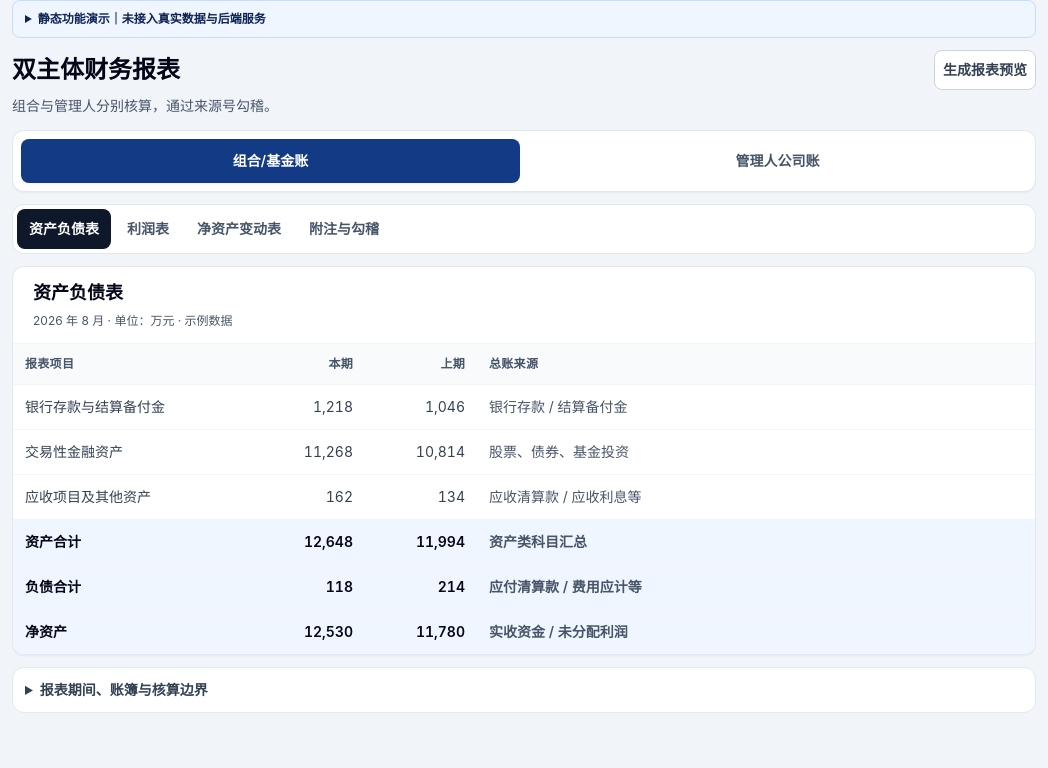
Test: FinancialStatementsWorkspace › 分别展示组合基金报表和管理人公司报表
Expected: the button "资产负债表" is shown, [17,209,111,249]
Expected: the button "利润表" is shown, [115,209,181,249]
Click the button "附注与勾稽".
click(344, 229)  # box [297,209,391,249]
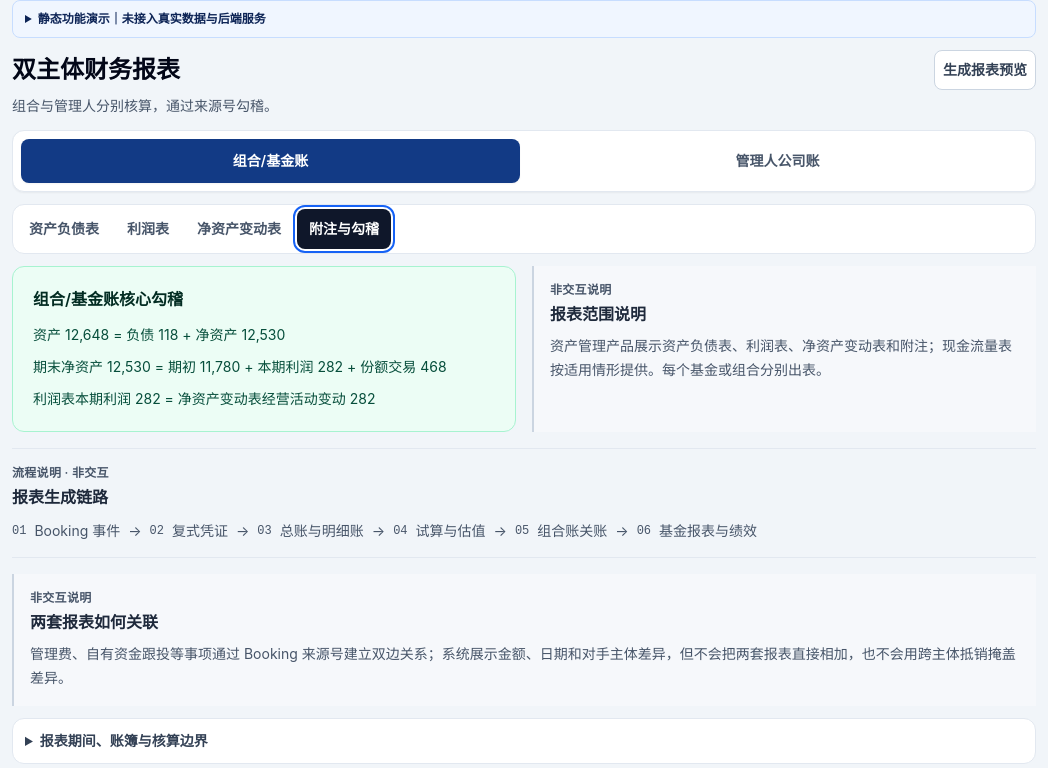
Now the list item "资产 12,648 = 负债 118 + 净资产 12,530" is shown, box [33,326,285,343]
Now the text "资产管理产品展示资产负债表、利润表、净资产变动表和附注；现金流量表按适用情形提供。每个基金或组合分别出表。" is shown, box [550,334,1020,382]
Now the element named "报表范围说明（非交互）" is shown, box [532,266,1036,432]
Click the button "管理人公司账".
click(778, 161)  # box [528,139,1027,183]
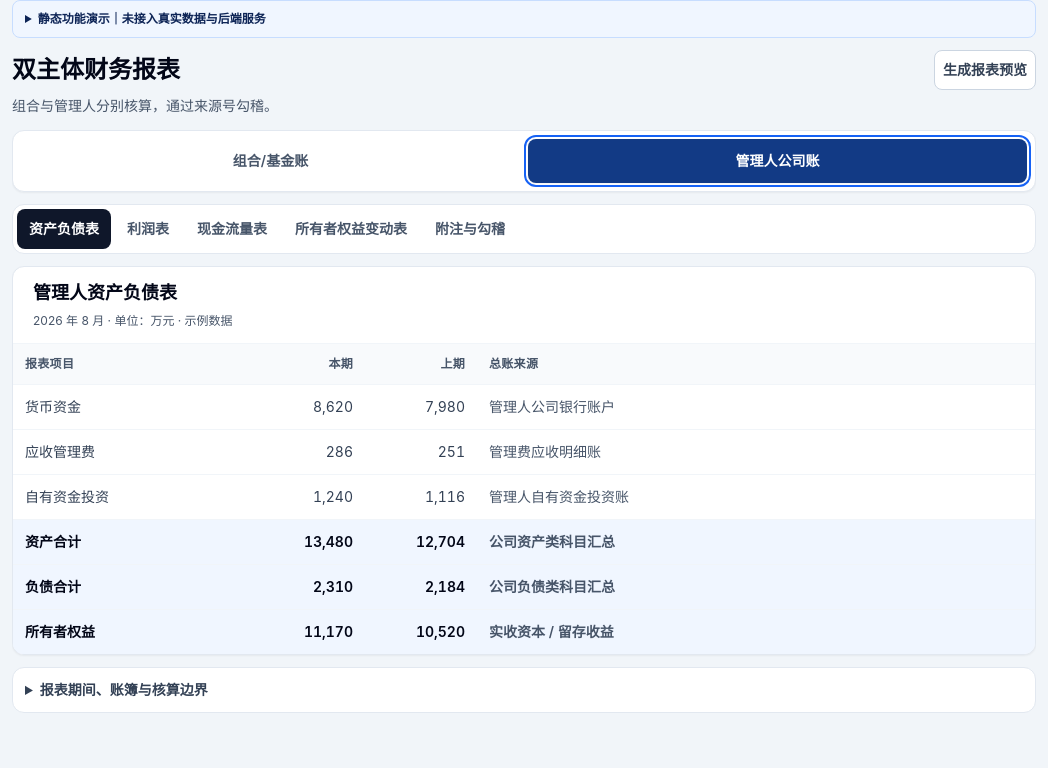
Now the button "现金流量表" is shown, box [185,209,279,249]
Now the button "所有者权益变动表" is shown, box [283,209,419,249]
Click the button "附注与勾稽".
click(470, 229)  # box [423,209,517,249]
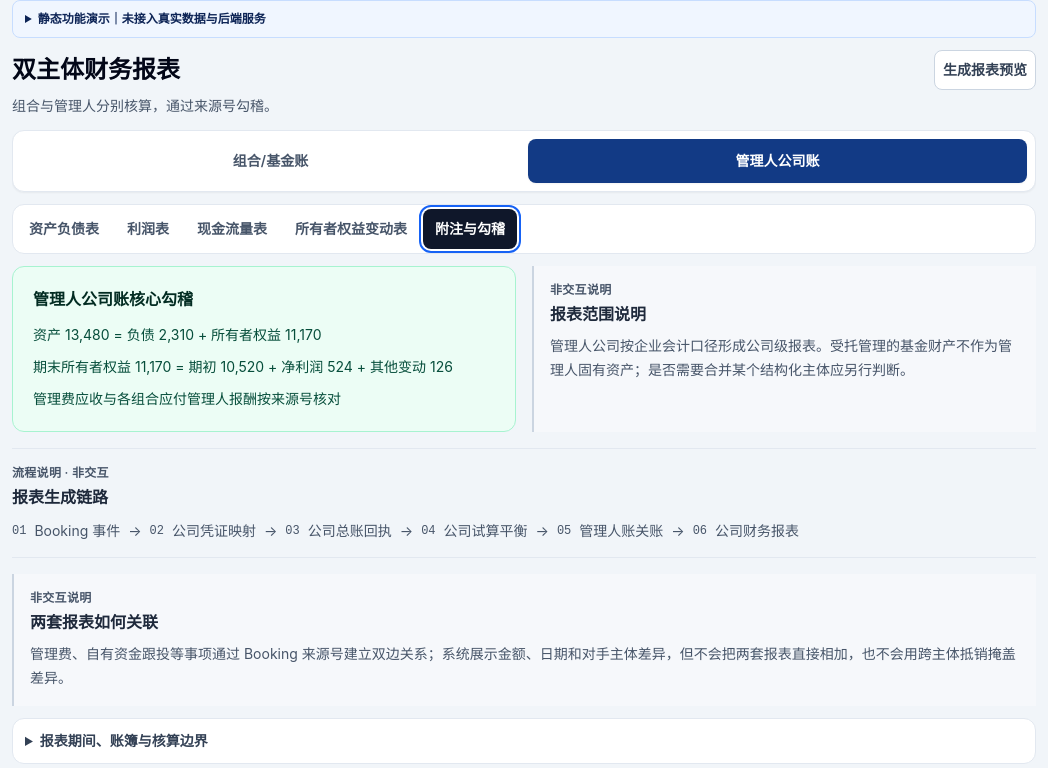
Now the text "管理人公司按企业会计口径形成公司级报表。受托管理的基金财产不作为管理人固有资产；是否需要合并某个结构化主体应另行判断。" is shown, box [550,334,1020,382]
